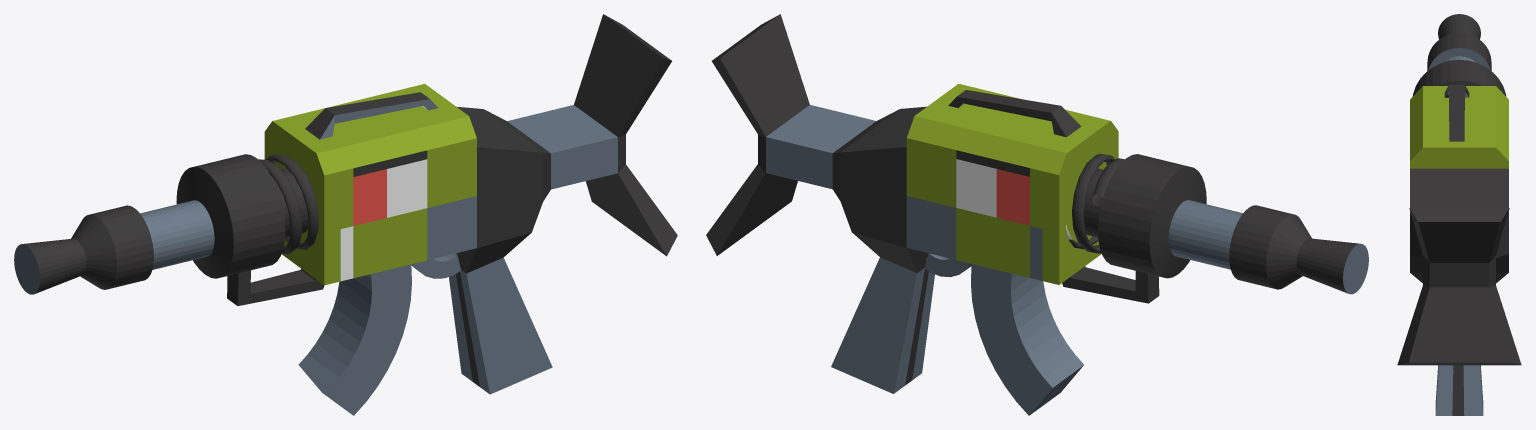
The model's file is riflePeper1.fbx.
3 renders of one model, left to right at view 1: azimuth 30°, elevation 25°; view 2: azimuth 150°, elevation 25°; view 3: azimuth 270°, elevation 25°, orthographic. The views are drawn at different scales.
Parts seen in each view (by area): view 1: Cube.001; view 2: Cube.001; view 3: Cube.001.
Boxes of the visible parts, x1,y1,x2,y2 form: Cube.001: [14, 14, 677, 415]; Cube.001: [706, 14, 1368, 415]; Cube.001: [1397, 14, 1521, 415].
Size of the model in its own units: 452 by 216 by 94.71.
1 material, 1 textured.
